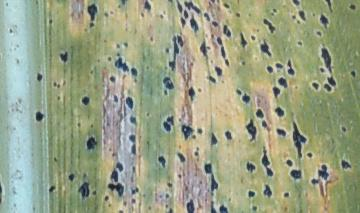tarspot: (291, 119, 306, 159), (260, 146, 274, 177), (169, 34, 180, 71), (321, 46, 333, 73), (113, 57, 130, 74), (107, 182, 124, 197), (246, 119, 257, 142), (183, 1, 201, 15), (260, 38, 272, 57), (261, 18, 275, 34), (78, 181, 90, 198), (87, 3, 98, 21), (188, 15, 199, 33), (181, 125, 193, 141), (317, 164, 329, 180), (319, 13, 330, 30), (210, 173, 219, 192), (286, 58, 295, 76), (109, 168, 119, 184), (162, 77, 174, 90), (290, 168, 302, 181), (86, 136, 97, 150), (239, 31, 248, 48), (199, 39, 207, 58), (274, 105, 285, 117), (277, 77, 288, 89), (125, 96, 134, 110), (263, 184, 272, 198), (35, 110, 45, 122), (80, 95, 90, 107), (187, 87, 195, 102), (340, 159, 352, 169), (115, 160, 125, 172), (298, 9, 307, 22), (220, 46, 228, 60), (186, 199, 194, 213), (59, 52, 69, 63), (162, 121, 172, 132), (223, 129, 233, 140), (246, 161, 256, 172), (327, 76, 337, 87), (177, 151, 186, 163), (242, 92, 251, 104), (177, 33, 184, 48), (158, 156, 166, 169), (322, 83, 332, 93), (35, 72, 44, 83), (204, 163, 213, 174), (211, 132, 218, 146), (215, 65, 223, 77), (179, 17, 187, 29), (273, 86, 281, 98), (168, 114, 175, 127), (176, 1, 183, 14), (129, 115, 138, 125), (215, 36, 224, 46), (255, 109, 265, 118), (276, 128, 287, 136), (325, 1, 332, 13), (210, 201, 217, 213), (143, 1, 152, 10), (208, 75, 217, 84), (311, 81, 320, 90), (128, 133, 136, 143), (203, 12, 211, 22), (223, 1, 231, 10), (235, 86, 243, 95), (266, 65, 274, 74), (219, 205, 228, 213), (112, 94, 119, 104), (131, 67, 138, 77), (261, 119, 268, 129), (310, 178, 320, 185), (1, 182, 4, 205), (131, 144, 137, 155), (226, 27, 232, 38), (211, 20, 219, 28), (348, 3, 356, 11), (248, 190, 256, 198), (285, 159, 293, 167), (148, 33, 154, 43), (225, 58, 231, 68), (109, 76, 117, 83), (122, 40, 129, 48), (196, 126, 203, 134), (68, 173, 75, 181), (81, 171, 88, 179), (164, 45, 170, 54), (183, 10, 189, 19), (49, 184, 55, 193), (234, 11, 241, 18), (249, 34, 256, 41), (315, 30, 322, 37), (251, 205, 258, 212), (103, 195, 110, 202), (115, 42, 121, 50), (276, 63, 284, 69), (271, 7, 279, 13), (292, 1, 300, 7), (350, 71, 356, 79), (167, 180, 173, 188), (7, 28, 14, 34), (193, 150, 199, 157), (318, 68, 325, 74), (341, 126, 347, 133), (168, 207, 175, 213), (283, 191, 290, 197), (144, 64, 151, 70), (223, 24, 227, 34), (177, 172, 182, 180), (109, 152, 117, 157), (106, 56, 112, 62), (103, 13, 109, 19), (116, 3, 122, 9), (77, 120, 81, 129), (52, 157, 58, 163), (145, 111, 151, 117), (163, 90, 169, 96), (131, 198, 137, 204), (293, 84, 299, 90), (88, 23, 95, 28), (88, 69, 95, 74), (133, 77, 138, 84), (48, 19, 54, 24), (139, 12, 144, 18), (56, 95, 61, 101), (52, 81, 57, 87), (89, 123, 94, 129), (197, 87, 202, 93), (192, 134, 197, 140), (206, 45, 212, 50), (298, 41, 303, 47), (307, 153, 313, 158), (164, 193, 170, 198), (131, 189, 136, 195), (123, 201, 128, 207), (147, 205, 152, 211), (107, 10, 114, 14), (160, 13, 164, 20), (136, 186, 140, 193), (116, 52, 121, 57), (122, 1, 127, 6), (56, 84, 61, 89), (241, 61, 246, 66), (297, 20, 302, 25), (311, 12, 316, 17), (92, 190, 97, 195), (167, 1, 173, 5), (292, 14, 296, 20), (118, 210, 125, 213), (196, 146, 200, 151), (211, 1, 216, 5), (165, 203, 169, 208)
